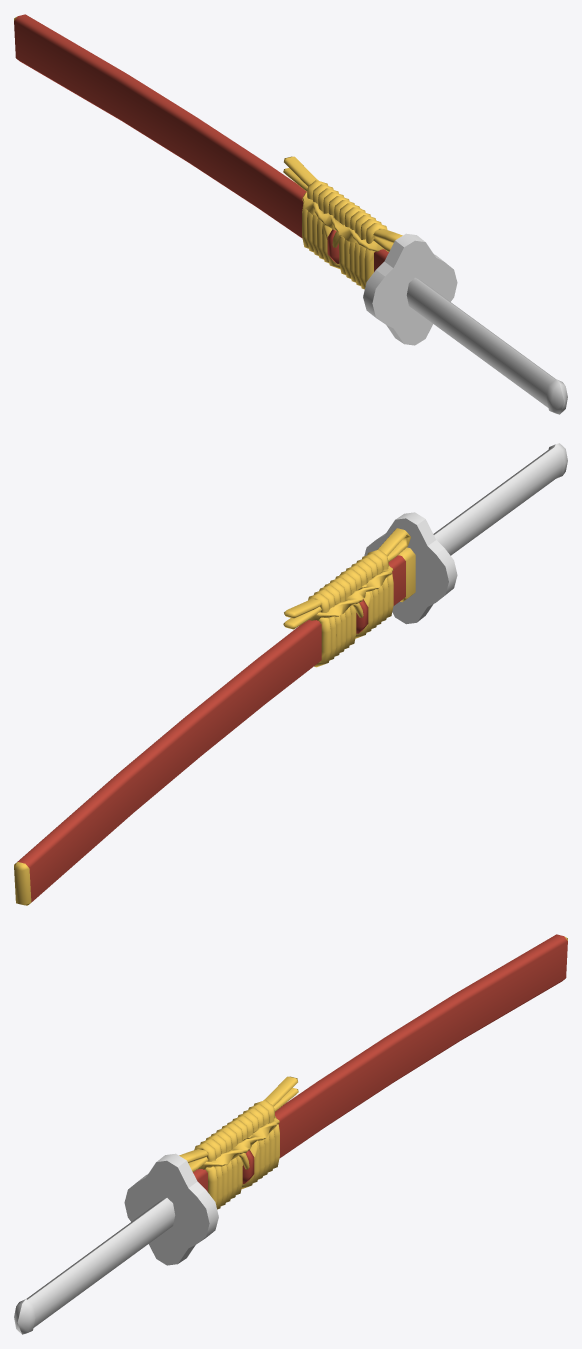
File: KatanaAndSheath.fbx
3 renders of one model, top to bottom at view 1: azimuth 30°, elevation 25°; view 2: azimuth 150°, elevation 25°; view 3: azimuth 330°, elevation 25°, orthographic.
Visible parts, largest first — view 1: Sheath, Sash, CrossGuard_low, Handle_low; view 2: Sheath, Sash, Handle_low, CrossGuard_low; view 3: Sheath, Sash, CrossGuard_low, Handle_low.
Part boxes in pixels (bbox=[...]): Sheath: bbox=[14, 14, 388, 271]; Sash: bbox=[283, 156, 402, 289]; CrossGuard_low: bbox=[363, 233, 457, 345]; Handle_low: bbox=[406, 278, 567, 414]; Sheath: bbox=[14, 547, 415, 905]; Sash: bbox=[283, 528, 410, 667]; Handle_low: bbox=[433, 443, 567, 555]; CrossGuard_low: bbox=[364, 512, 457, 624]; Sheath: bbox=[193, 934, 567, 1191]; Sash: bbox=[179, 1076, 298, 1209]; CrossGuard_low: bbox=[124, 1153, 218, 1265]; Handle_low: bbox=[14, 1198, 175, 1334].
Size of the model in its own units: 16.77 by 19.87 by 184.
